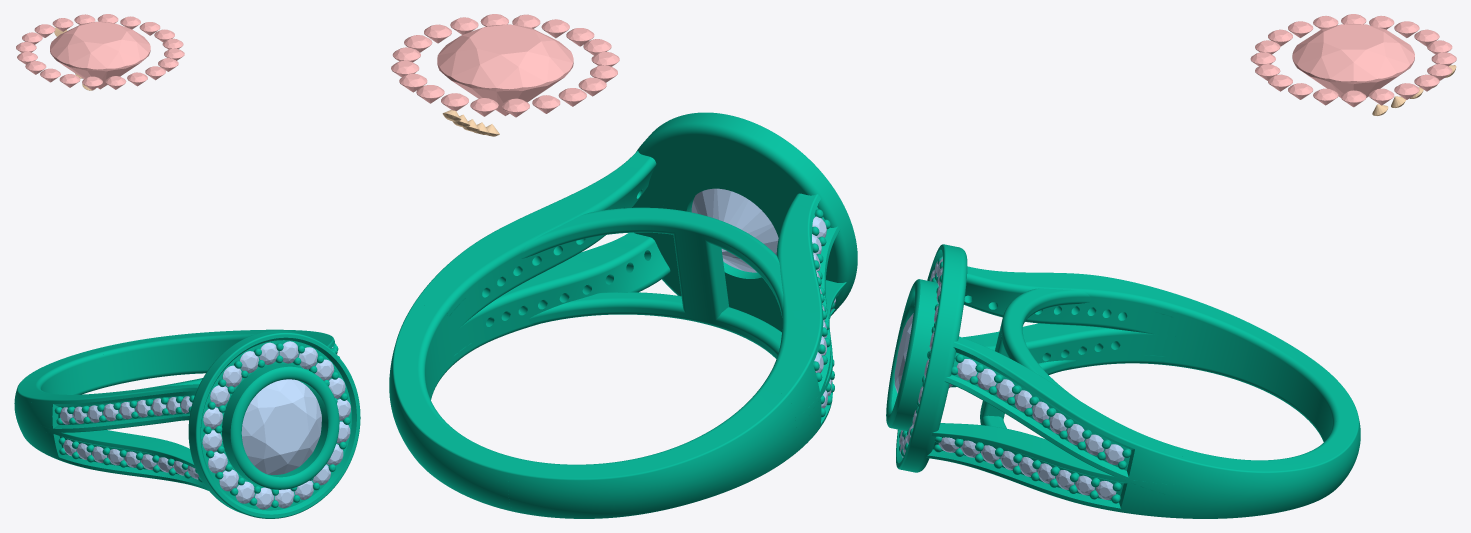
The picture shows the model from 3 angles, left to right: view 1: azimuth 30°, elevation 25°; view 2: azimuth 150°, elevation 25°; view 3: azimuth 270°, elevation 25°; orthographic projection. The views are drawn at different scales.
Visible parts, largest first — view 1: JTC-4566(base).3dm, Diamond_Round (×2); view 2: JTC-4566(base).3dm, Diamond_Round (×2); view 3: JTC-4566(base).3dm, Diamond_Round.
Part boxes in pixels (x1=…): JTC-4566(base).3dm: x1=14, y1=329, x2=360, y2=518; Diamond_Round (×2): x1=50, y1=21, x2=321, y2=474; JTC-4566(base).3dm: x1=389, y1=112, x2=857, y2=518; Diamond_Round (×2): x1=437, y1=24, x2=778, y2=272; JTC-4566(base).3dm: x1=886, y1=244, x2=1360, y2=518; Diamond_Round: x1=1292, y1=23, x2=1414, y2=97.
Size of the model in its own units: 2.42 by 2.84 by 3.46.
